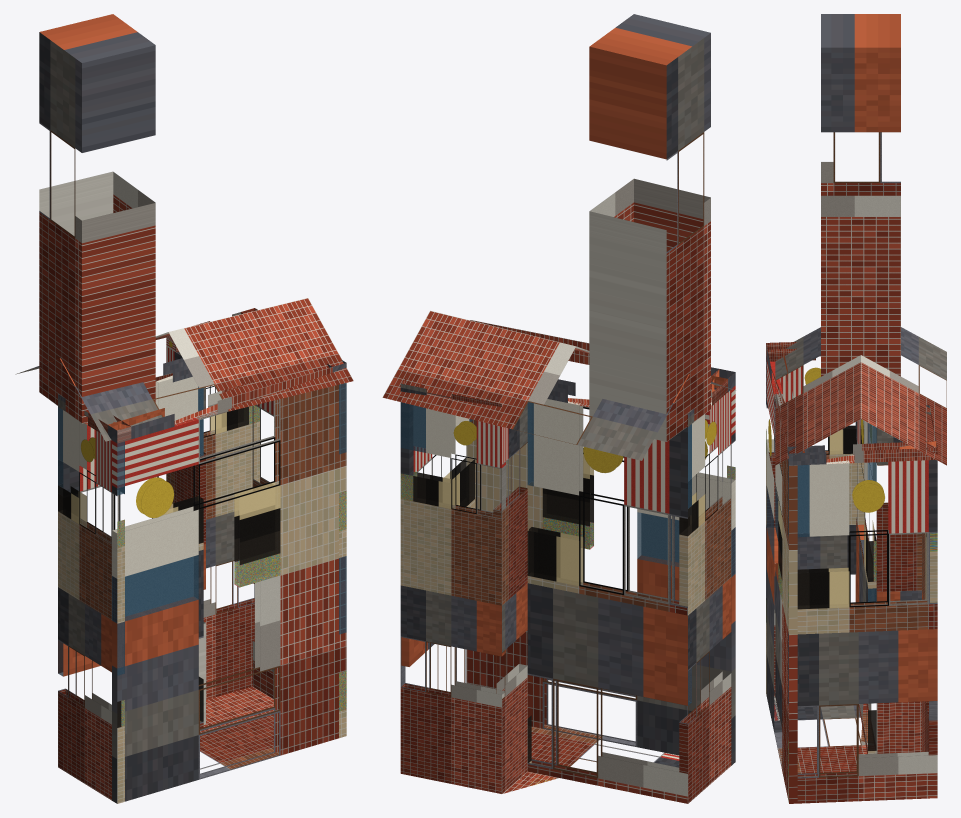
The picture shows the model from 3 angles, left to right: view 1: azimuth 30°, elevation 25°; view 2: azimuth 150°, elevation 25°; view 3: azimuth 270°, elevation 25°; orthographic projection. The views are drawn at different scales.
Parts seen in each view (by area): view 1: 1132023216__wall_1_xb, 1132023216__chimney_0_xb, 1132023216__wall_0_xb, 1132023216_roof_-1_xb, 1132023216__wall_3_xb, 1132023216__wall_1_xf, 1132023216__wall_5_xb, 1132023216__base, 1132023216__wall_2_xb, 1132023216__cornice_1, 1132023216__wall_0_xf, 1132023216__wall_4_xb (+3 smaller); view 2: 1132023216__chimney_0_xb, 1132023216__wall_5_xb, 1132023216__wall_3_xb, 1132023216__wall_1_xb, 1132023216_roof_1_xb, 1132023216__wall_0_xb, 1132023216__wall_4_xb, 1132023216__wall_1_xf, 1132023216__wall_5_xf, 1132023216__wall_2_xb, 1132023216__base, 1132023216__wall_3_xf (+3 smaller); view 3: 1132023216__wall_2_xb, 1132023216__chimney_0_xb, 1132023216__wall_1_xb, 1132023216_roof_1_xb, 1132023216_roof_-1_xb, 1132023216__wall_4_xb, 1132023216__wall_0_xb, 1132023216__wall_2_xf, 1132023216__wall_5_xb, 1132023216__base, 1132023216__cornice_2, 1132023216__wall_3_xb (+5 smaller).
Boxes of the visible parts, x1=… form: 1132023216__wall_1_xb: x1=112, y1=383, x2=346, y2=803; 1132023216__chimney_0_xb: x1=39, y1=14, x2=155, y2=423; 1132023216__wall_0_xb: x1=58, y1=407, x2=124, y2=803; 1132023216_roof_-1_xb: x1=60, y1=298, x2=353, y2=441; 1132023216__wall_3_xb: x1=203, y1=386, x2=259, y2=699; 1132023216__wall_1_xf: x1=112, y1=480, x2=279, y2=622; 1132023216__wall_5_xb: x1=58, y1=375, x2=203, y2=728; 1132023216__base: x1=200, y1=686, x2=279, y2=769; 1132023216__wall_2_xb: x1=252, y1=383, x2=346, y2=738; 1132023216__cornice_1: x1=107, y1=367, x2=332, y2=443; 1132023216__wall_0_xf: x1=58, y1=407, x2=124, y2=727; 1132023216__wall_4_xb: x1=166, y1=346, x2=205, y2=724; 1132023216__chimney_0_xb: x1=589, y1=14, x2=710, y2=441; 1132023216__wall_5_xb: x1=527, y1=399, x2=691, y2=803; 1132023216__wall_3_xb: x1=400, y1=402, x2=505, y2=793; 1132023216__wall_1_xb: x1=466, y1=386, x2=735, y2=765; 1132023216_roof_1_xb: x1=382, y1=310, x2=689, y2=460; 1132023216__wall_0_xb: x1=679, y1=389, x2=735, y2=803; 1132023216__wall_4_xb: x1=493, y1=404, x2=527, y2=793; 1132023216__wall_1_xf: x1=543, y1=455, x2=735, y2=576; 1132023216__wall_5_xf: x1=528, y1=402, x2=691, y2=762; 1132023216__wall_2_xb: x1=400, y1=402, x2=474, y2=691; 1132023216__base: x1=502, y1=724, x2=679, y2=793; 1132023216__wall_3_xf: x1=401, y1=402, x2=454, y2=508; 1132023216__wall_2_xb: x1=788, y1=460, x2=937, y2=803; 1132023216__chimney_0_xb: x1=821, y1=14, x2=900, y2=376; 1132023216__wall_1_xb: x1=766, y1=358, x2=797, y2=803; 1132023216_roof_1_xb: x1=861, y1=327, x2=946, y2=465; 1132023216_roof_-1_xb: x1=775, y1=327, x2=860, y2=465; 1132023216__wall_4_xb: x1=876, y1=428, x2=928, y2=753; 1132023216__wall_0_xb: x1=766, y1=356, x2=864, y2=696; 1132023216__wall_2_xf: x1=788, y1=465, x2=848, y2=703; 1132023216__wall_5_xb: x1=855, y1=419, x2=876, y2=753; 1132023216__base: x1=774, y1=696, x2=867, y2=773; 1132023216__cornice_2: x1=787, y1=441, x2=937, y2=464; 1132023216__wall_3_xb: x1=922, y1=533, x2=937, y2=755.
Bounding box in the file's own units: 0.5049 × 1.4 × 0.3392.
1 material, 1 textured.
